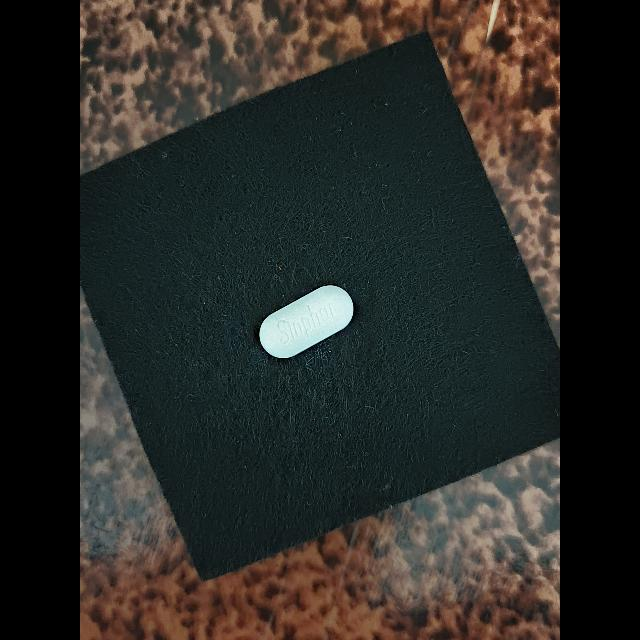Intact Pill: (259, 285, 354, 359)
